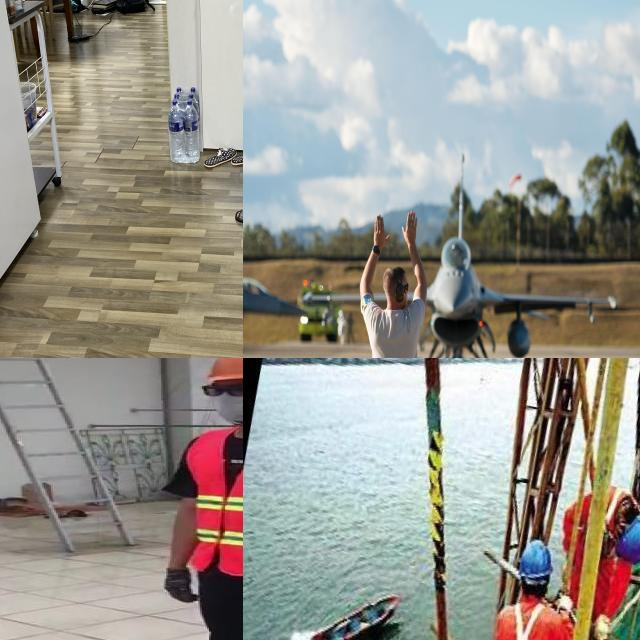Ear-protection: (382, 261, 412, 312)
Harness: (513, 603, 546, 640)
Sandals: (226, 200, 243, 235)
head_helmet: (196, 358, 243, 382)
person: (153, 358, 243, 640)
vest: (180, 427, 243, 581)
